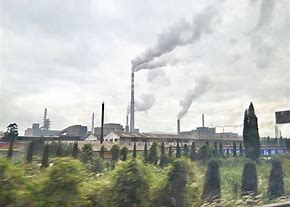smoke: (128, 5, 215, 72), (175, 75, 211, 118), (124, 90, 157, 115)
